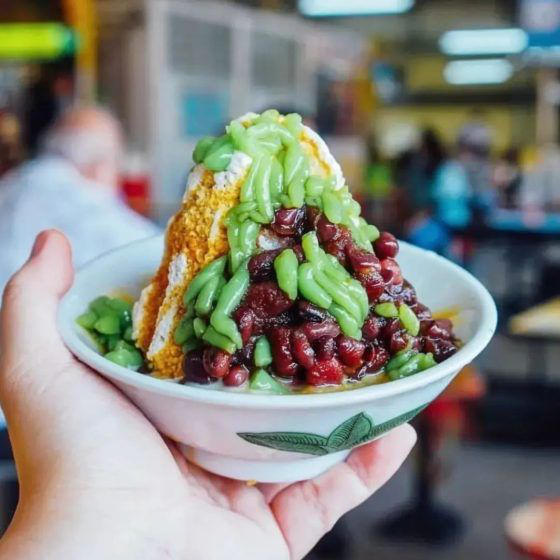Chendol: (83, 112, 482, 456)
